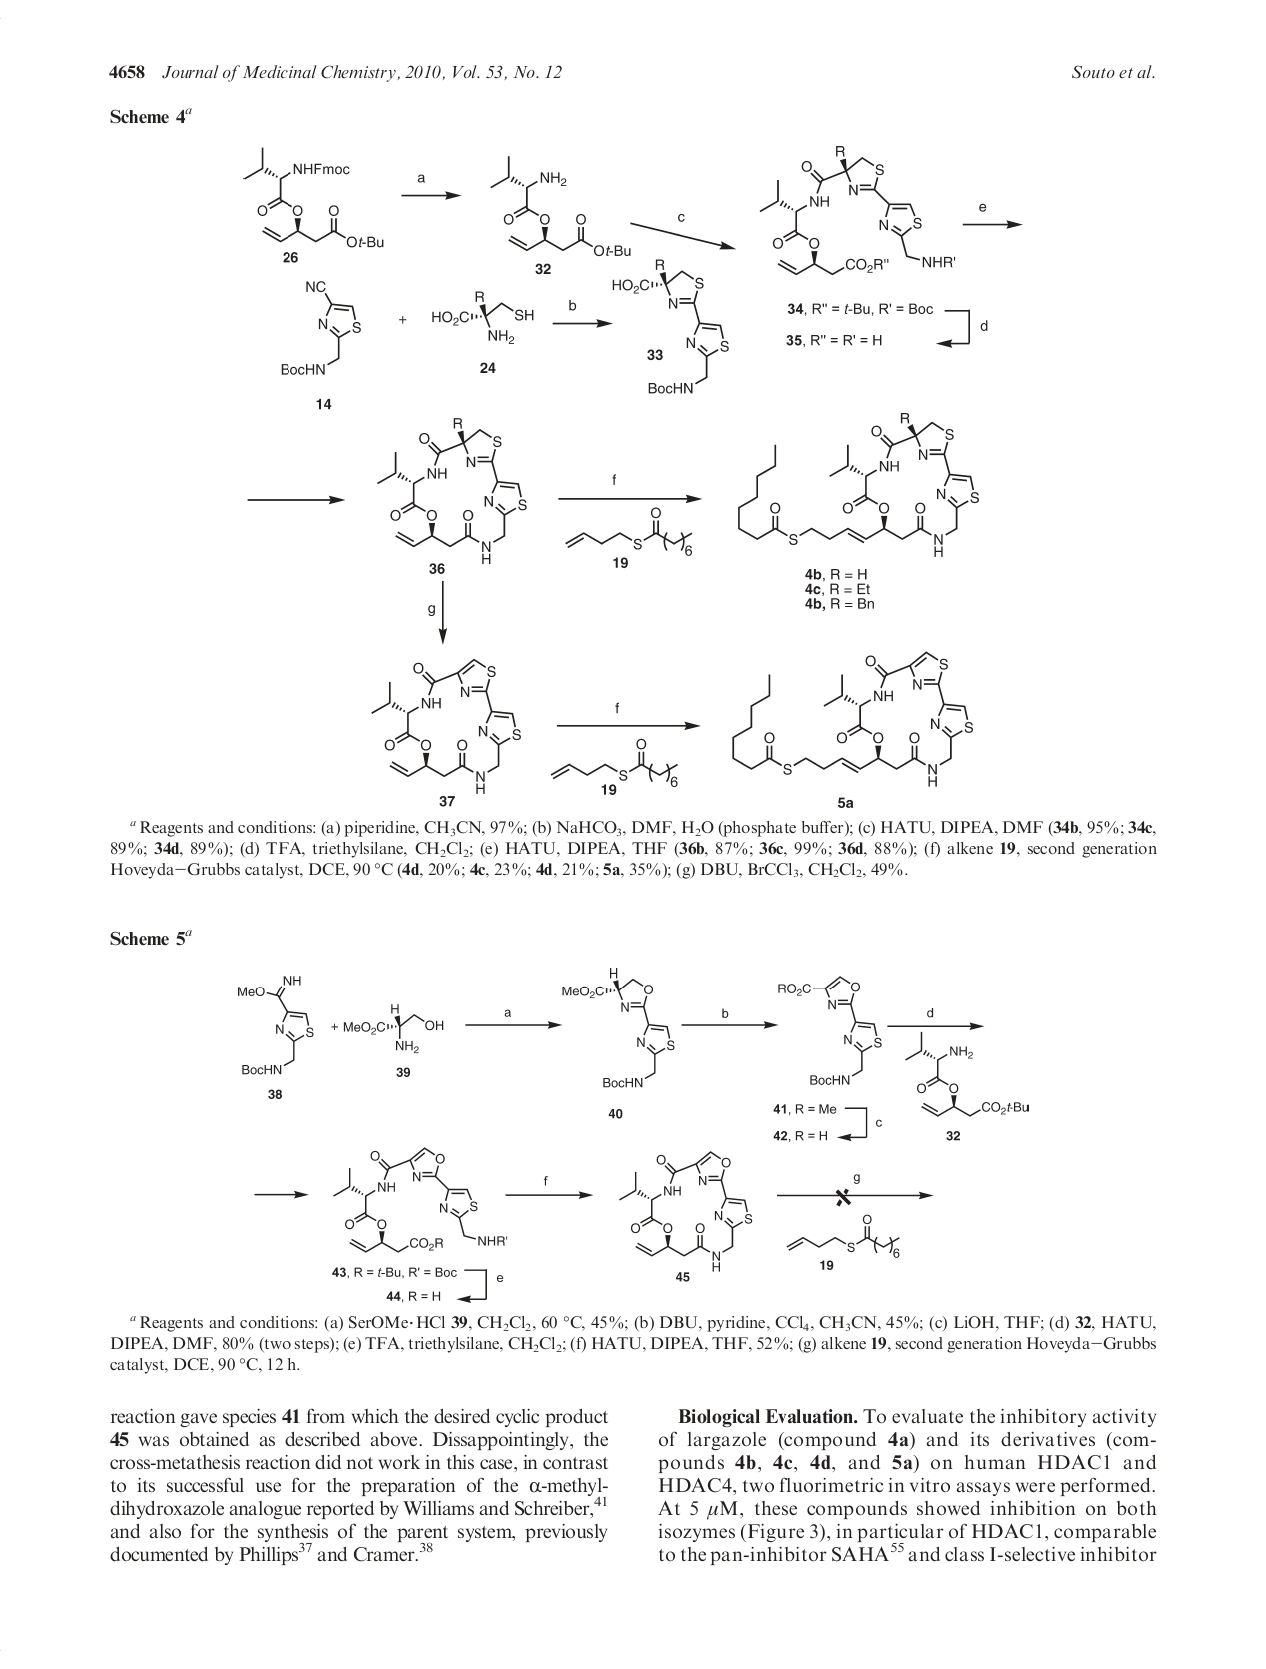exist_molecular: (737, 410, 983, 561), (730, 642, 976, 789), (757, 140, 957, 279), (376, 416, 531, 565), (371, 656, 525, 798), (328, 1140, 513, 1255), (622, 1142, 754, 1275), (235, 142, 388, 253), (612, 255, 731, 395), (492, 156, 636, 261), (561, 963, 676, 1088), (777, 973, 884, 1087), (903, 1028, 1032, 1118), (230, 965, 320, 1079), (278, 273, 364, 379), (548, 737, 688, 791), (563, 505, 696, 556), (786, 1209, 908, 1259), (431, 287, 537, 344), (340, 1001, 445, 1055)
